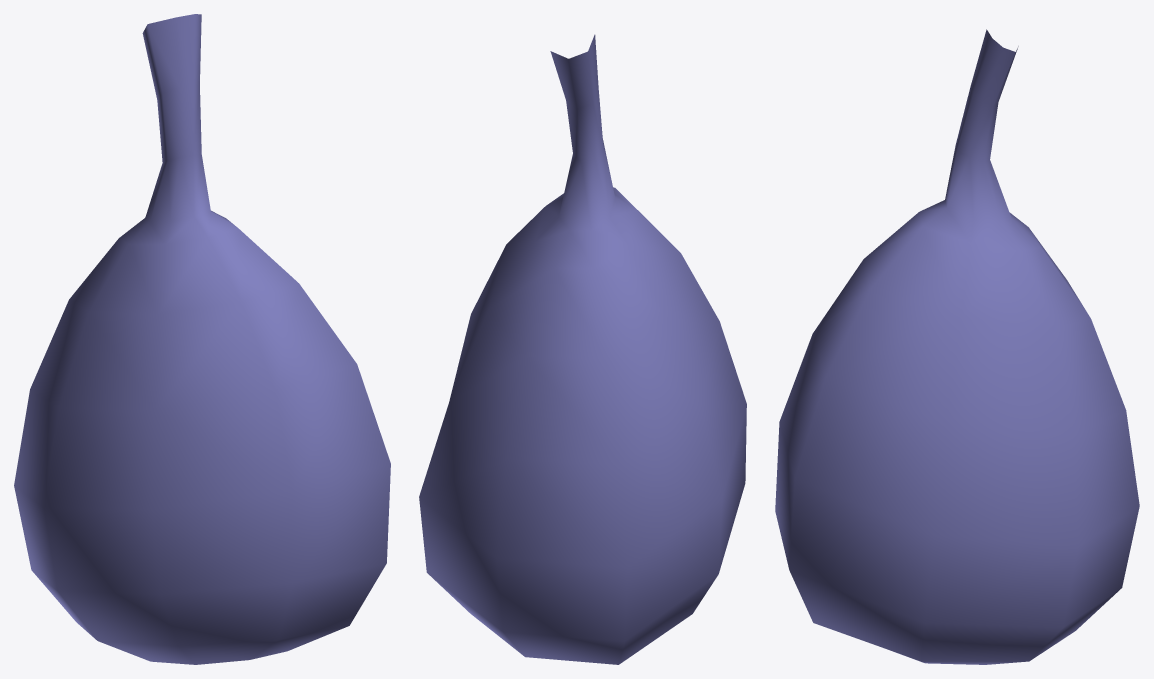
File: Pituitary_Gland_Trans.gltf
3 renders of one model, left to right at view 1: azimuth 30°, elevation 25°; view 2: azimuth 150°, elevation 25°; view 3: azimuth 270°, elevation 25°, orthographic.
Visible parts, largest first — view 1: Pituitary_Gland; view 2: Pituitary_Gland; view 3: Pituitary_Gland.
Part boxes in pixels (bbox=[...]): Pituitary_Gland: bbox=[14, 14, 390, 664]; Pituitary_Gland: bbox=[419, 34, 746, 664]; Pituitary_Gland: bbox=[775, 29, 1139, 664].
Bounding box in the file's own units: 0.668 × 1.36 × 0.7201.
